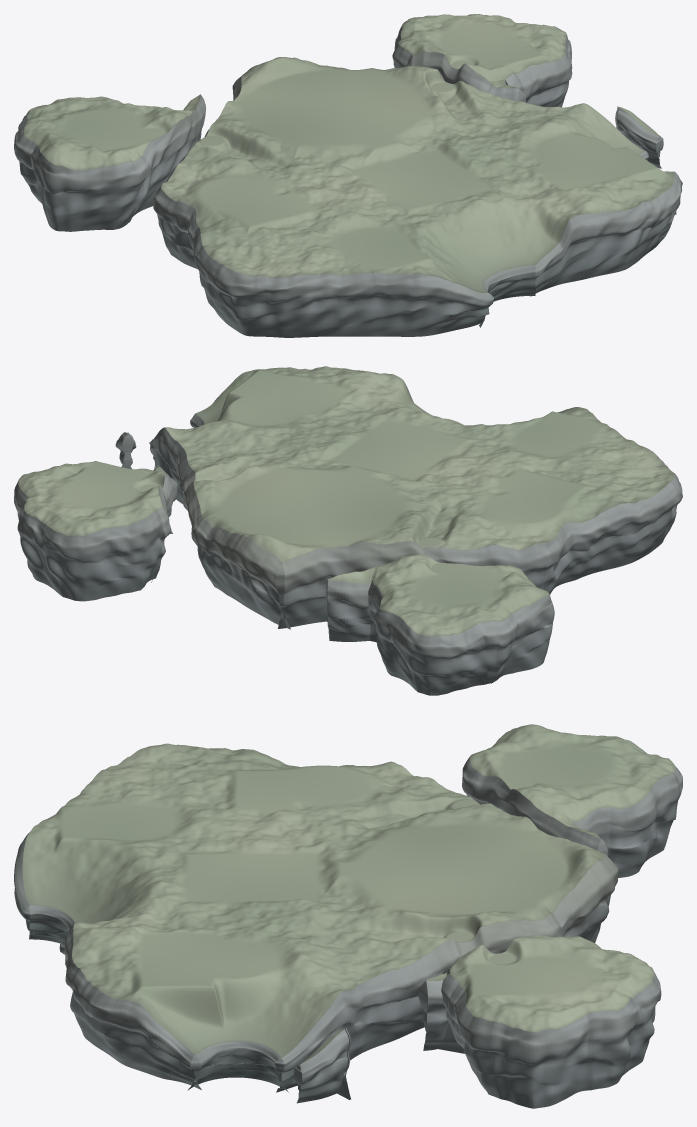
3 views of the same model, one above another, from view 1: azimuth 30°, elevation 25°; view 2: azimuth 150°, elevation 25°; view 3: azimuth 270°, elevation 25° (orthographic). The views are drawn at different scales.
Parts seen in each view (by area): view 1: ground, cliffs; view 2: ground, cliffs; view 3: ground, cliffs.
Boxes of the visible parts, bbox=[...] form: ground: bbox=[23, 14, 674, 292]; cliffs: bbox=[14, 26, 682, 337]; ground: bbox=[18, 366, 675, 636]; cliffs: bbox=[14, 385, 682, 695]; ground: bbox=[22, 724, 675, 1064]; cliffs: bbox=[14, 756, 682, 1108].
Bounding box in the file's own units: 238 × 38.01 × 219.
